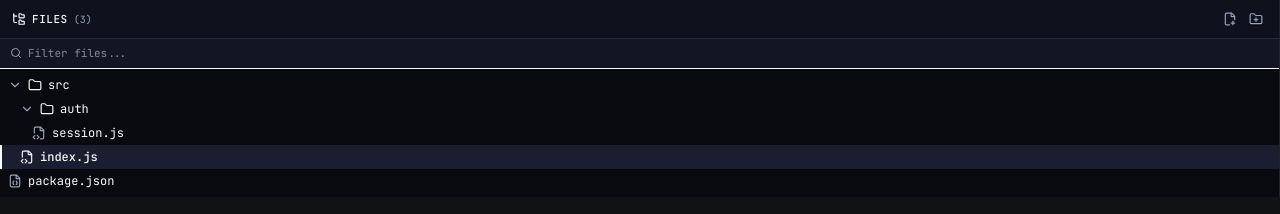
Test case: Phase 3.6 — Copilot IDE & Monaco Editor Chrome Rebuild › FileExplorer › supports file search filtering
Step 1. Type "package" into the field with placeholder "Filter files..." → point(648, 53), box [28,45,1269,62]
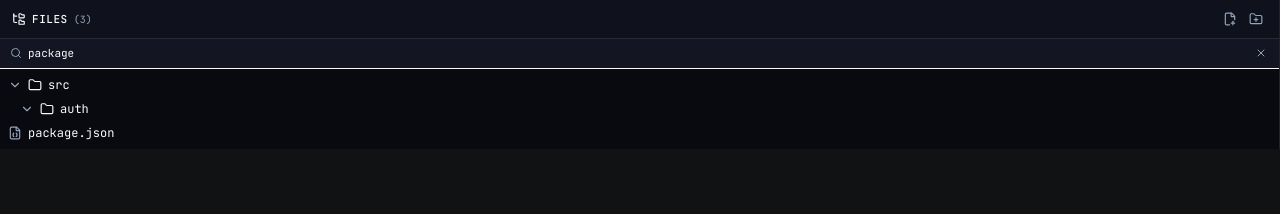
Expected: the text "package.json" is shown, [28,124,114,140]
Expected: the text "session.js" is gone
